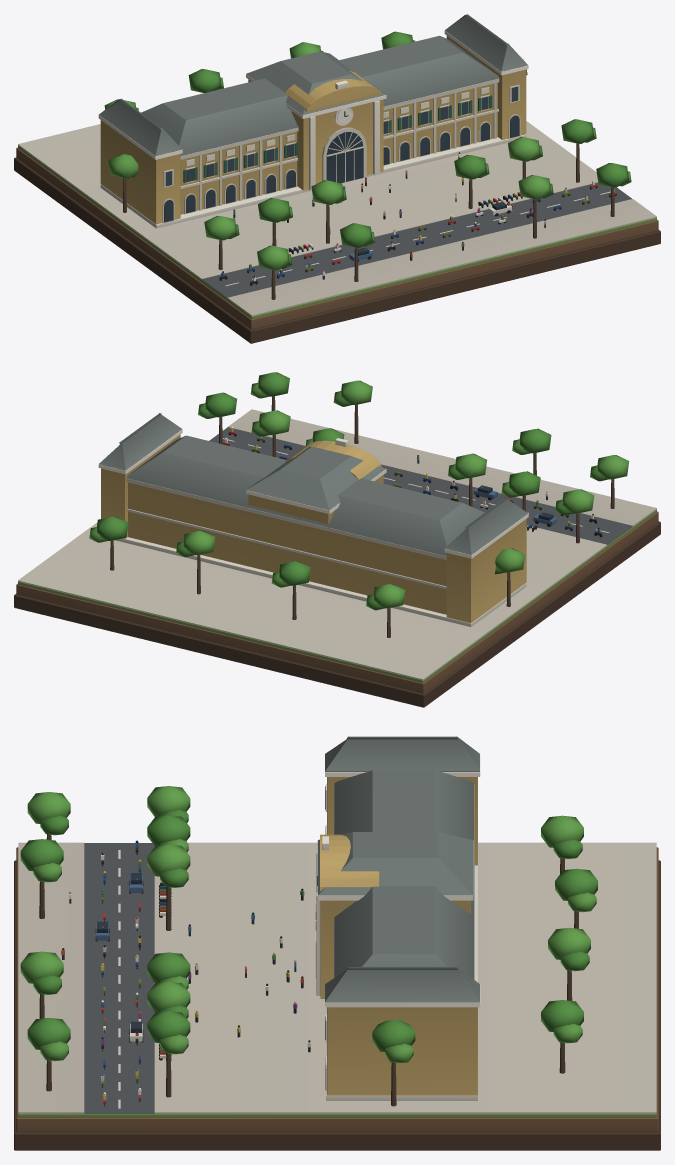
Rendered from buu-dien-sai-gon.glb.
3 renders of one model, top to bottom at view 1: azimuth 30°, elevation 25°; view 2: azimuth 150°, elevation 25°; view 3: azimuth 270°, elevation 25°, orthographic. The views are drawn at different scales.
Visible parts, largest first — view 1: BD_arch_frame; view 2: BD_arch_frame; view 3: BD_arch_frame.
Boxes of the visible parts, left/top/right/bottom form: BD_arch_frame: left=14, top=14, right=660, bottom=343; BD_arch_frame: left=14, top=372, right=660, bottom=707; BD_arch_frame: left=14, top=736, right=660, bottom=1150.
Size of the model in its own units: 93.57 by 27.4 by 92.
1 material, 1 textured.
